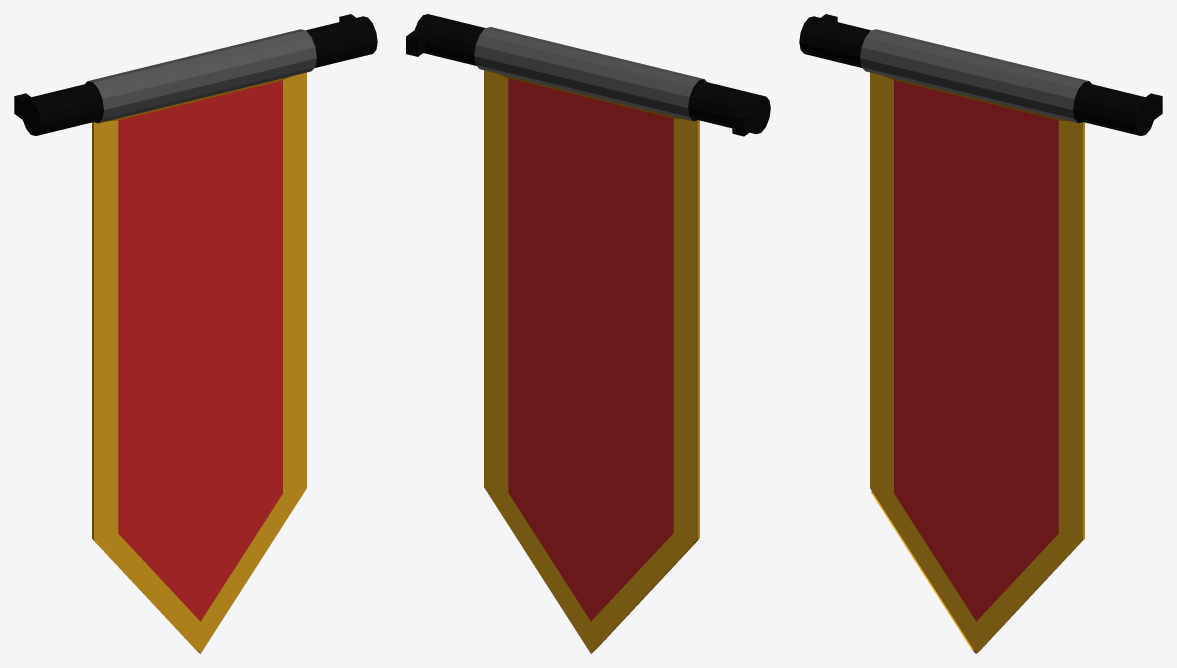
File: Flag.fbx
The picture shows the model from 3 angles, left to right: view 1: azimuth 30°, elevation 25°; view 2: azimuth 150°, elevation 25°; view 3: azimuth 330°, elevation 25°; orthographic projection.
Visible parts, largest first — view 1: Flag; view 2: Flag; view 3: Flag.
Part boxes in pixels (<box>): Flag: <box>14,14,377,653</box>; Flag: <box>406,14,770,653</box>; Flag: <box>799,14,1162,653</box>.
Size of the model in its own units: 250 by 423 by 35.64.
1 material, 1 textured.
